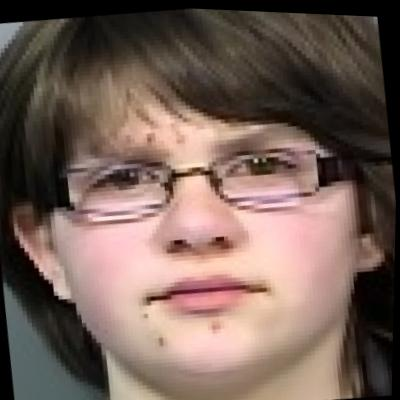angry: (31, 10, 369, 389)
